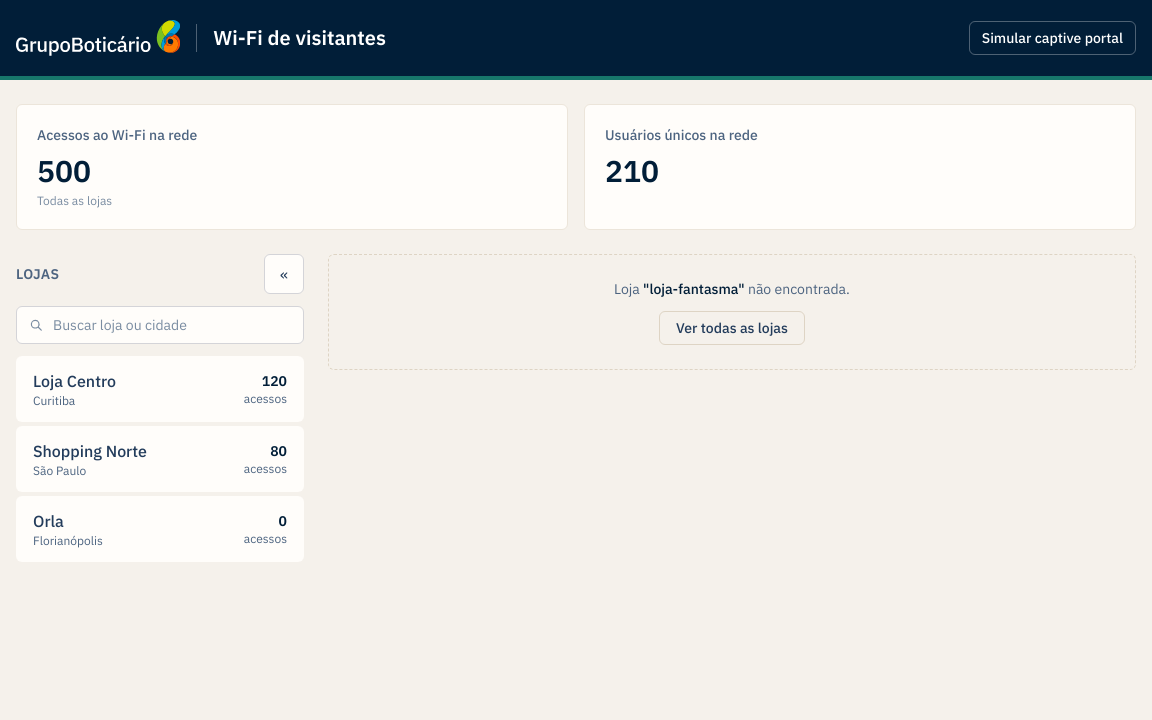
it: DashboardPage: loja selecionada › mostra aviso quando a loja do link não existe
The image size is (1152, 720).
Expected: the text "Loja \"loja-fantasma\" não encontrada." is shown, [614,280,850,298]
Click the button "Ver todas as lojas": (732, 328) [659,311,805,345]
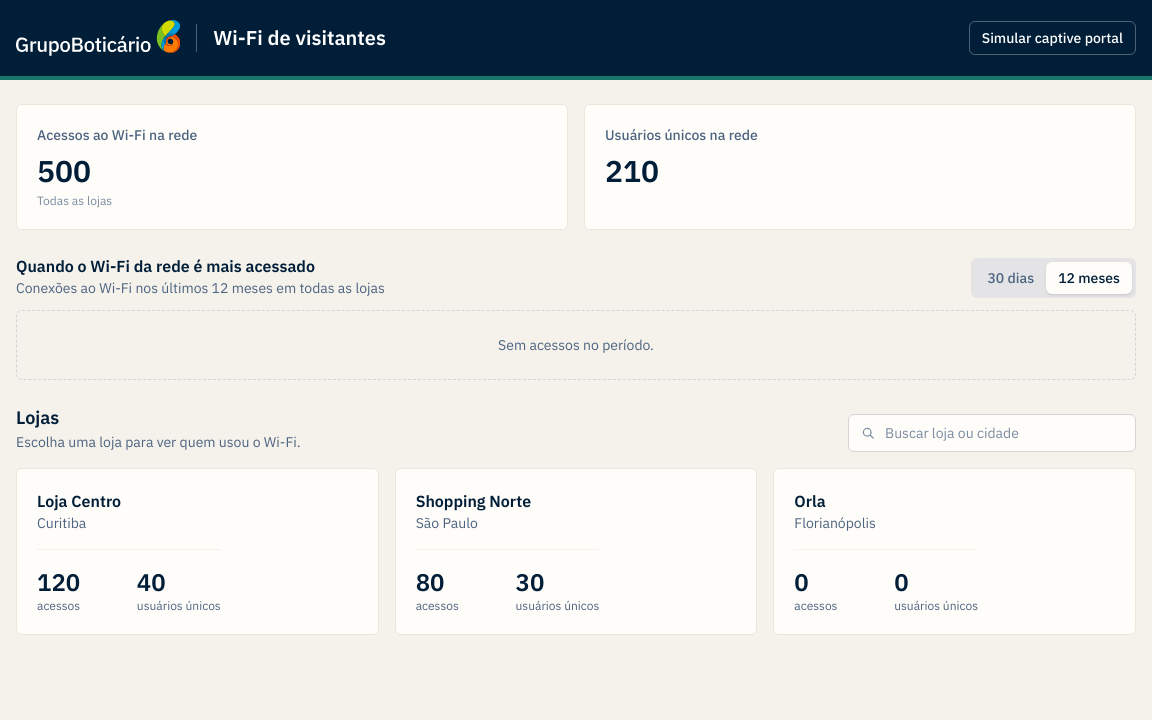
Now the number of list items is 3, box [16,468,379,635]; [395,468,757,635]; [773,468,1136,635]
